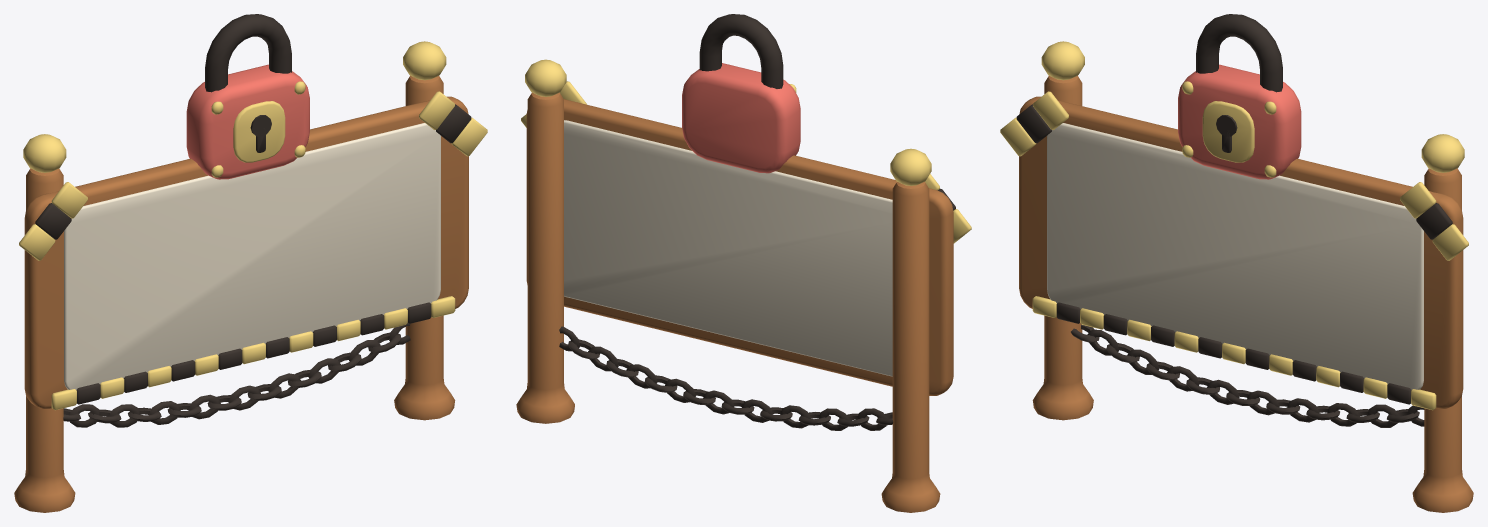
Rendered from ShopLockedSign.fbx.
3 views of the same model, side by side, from view 1: azimuth 30°, elevation 25°; view 2: azimuth 150°, elevation 25°; view 3: azimuth 330°, elevation 25° (orthographic). The views are drawn at different scales.
Visible parts, largest first — view 1: ShopLockedSign; view 2: ShopLockedSign; view 3: ShopLockedSign.
Boxes of the visible parts, x1=… form: ShopLockedSign: x1=14, y1=14, x2=487, y2=512; ShopLockedSign: x1=516, y1=14, x2=971, y2=512; ShopLockedSign: x1=1000, y1=14, x2=1473, y2=512.
Size of the model in its own units: 2.56 by 2.35 by 0.403.
